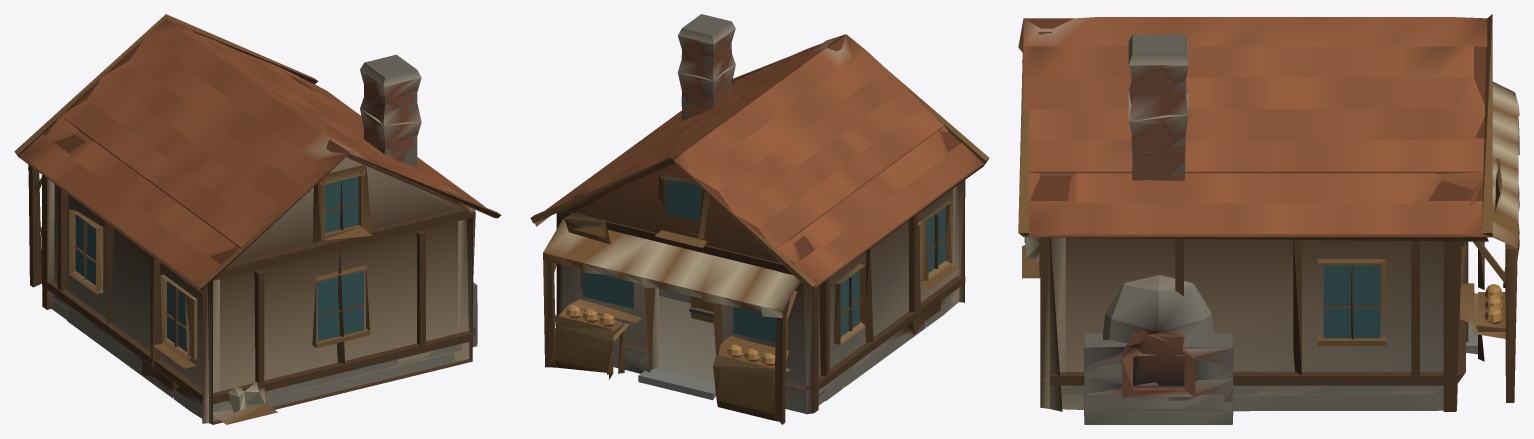
File: Bakery.glb
3 renders of one model, left to right at view 1: azimuth 30°, elevation 25°; view 2: azimuth 150°, elevation 25°; view 3: azimuth 270°, elevation 25°, orthographic. The views are drawn at different scales.
Parts seen in each view (by area): view 1: Bakery_P0_LOD1, BakeryGlass_P0_LOD1; view 2: Bakery_P0_LOD1, BakeryGlass_P0_LOD1, BakeryDoor_P0_LOD1; view 3: Bakery_P0_LOD1, BakeryGlass_P0_LOD1.
Part boxes in pixels (left/top/right/bottom): Bakery_P0_LOD1: left=14, top=14, right=501, bottom=424; BakeryGlass_P0_LOD1: left=75, top=176, right=363, bottom=351; Bakery_P0_LOD1: left=530, top=14, right=989, bottom=424; BakeryGlass_P0_LOD1: left=583, top=179, right=945, bottom=343; BakeryDoor_P0_LOD1: left=689, top=296, right=713, bottom=323; Bakery_P0_LOD1: left=1018, top=14, right=1519, bottom=424; BakeryGlass_P0_LOD1: left=1323, top=265, right=1380, bottom=338.
Size of the model in its own units: 6.93 by 5.81 by 7.64.
